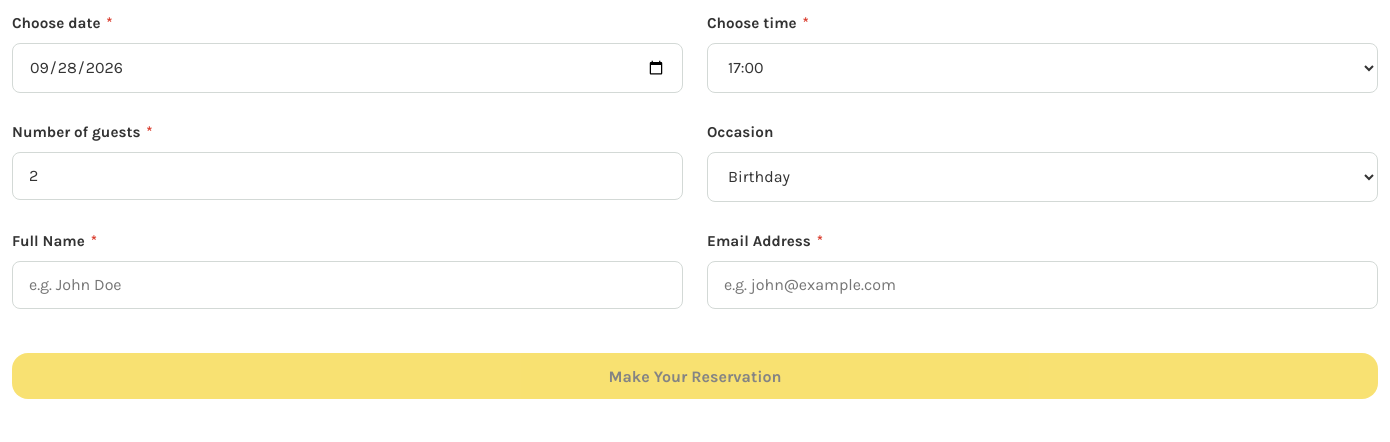
Form validation logic › shows error when guests is less than 1
Replace the text in the number field labelled "Number of guests *" with "0" at (348, 176), box [12,152,683,200]
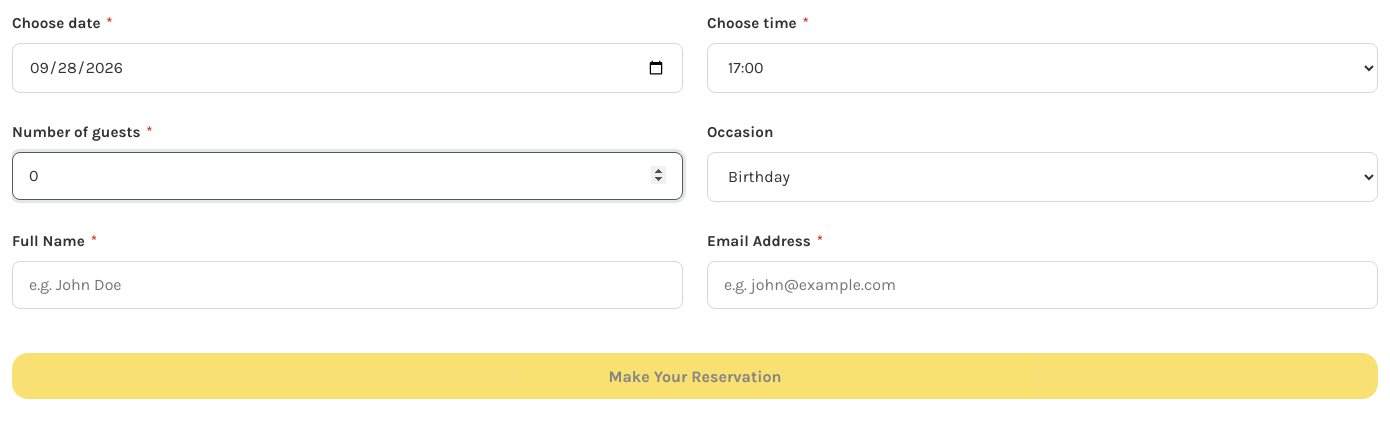
Press Tab
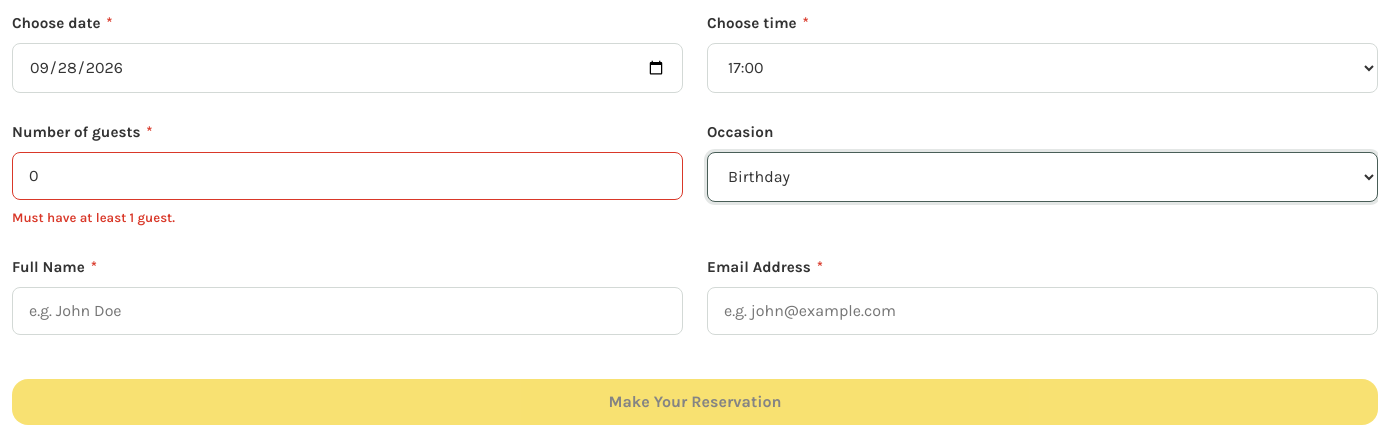
Check: the text "Must have at least 1 guest." is shown, box [12,210,175,225]
